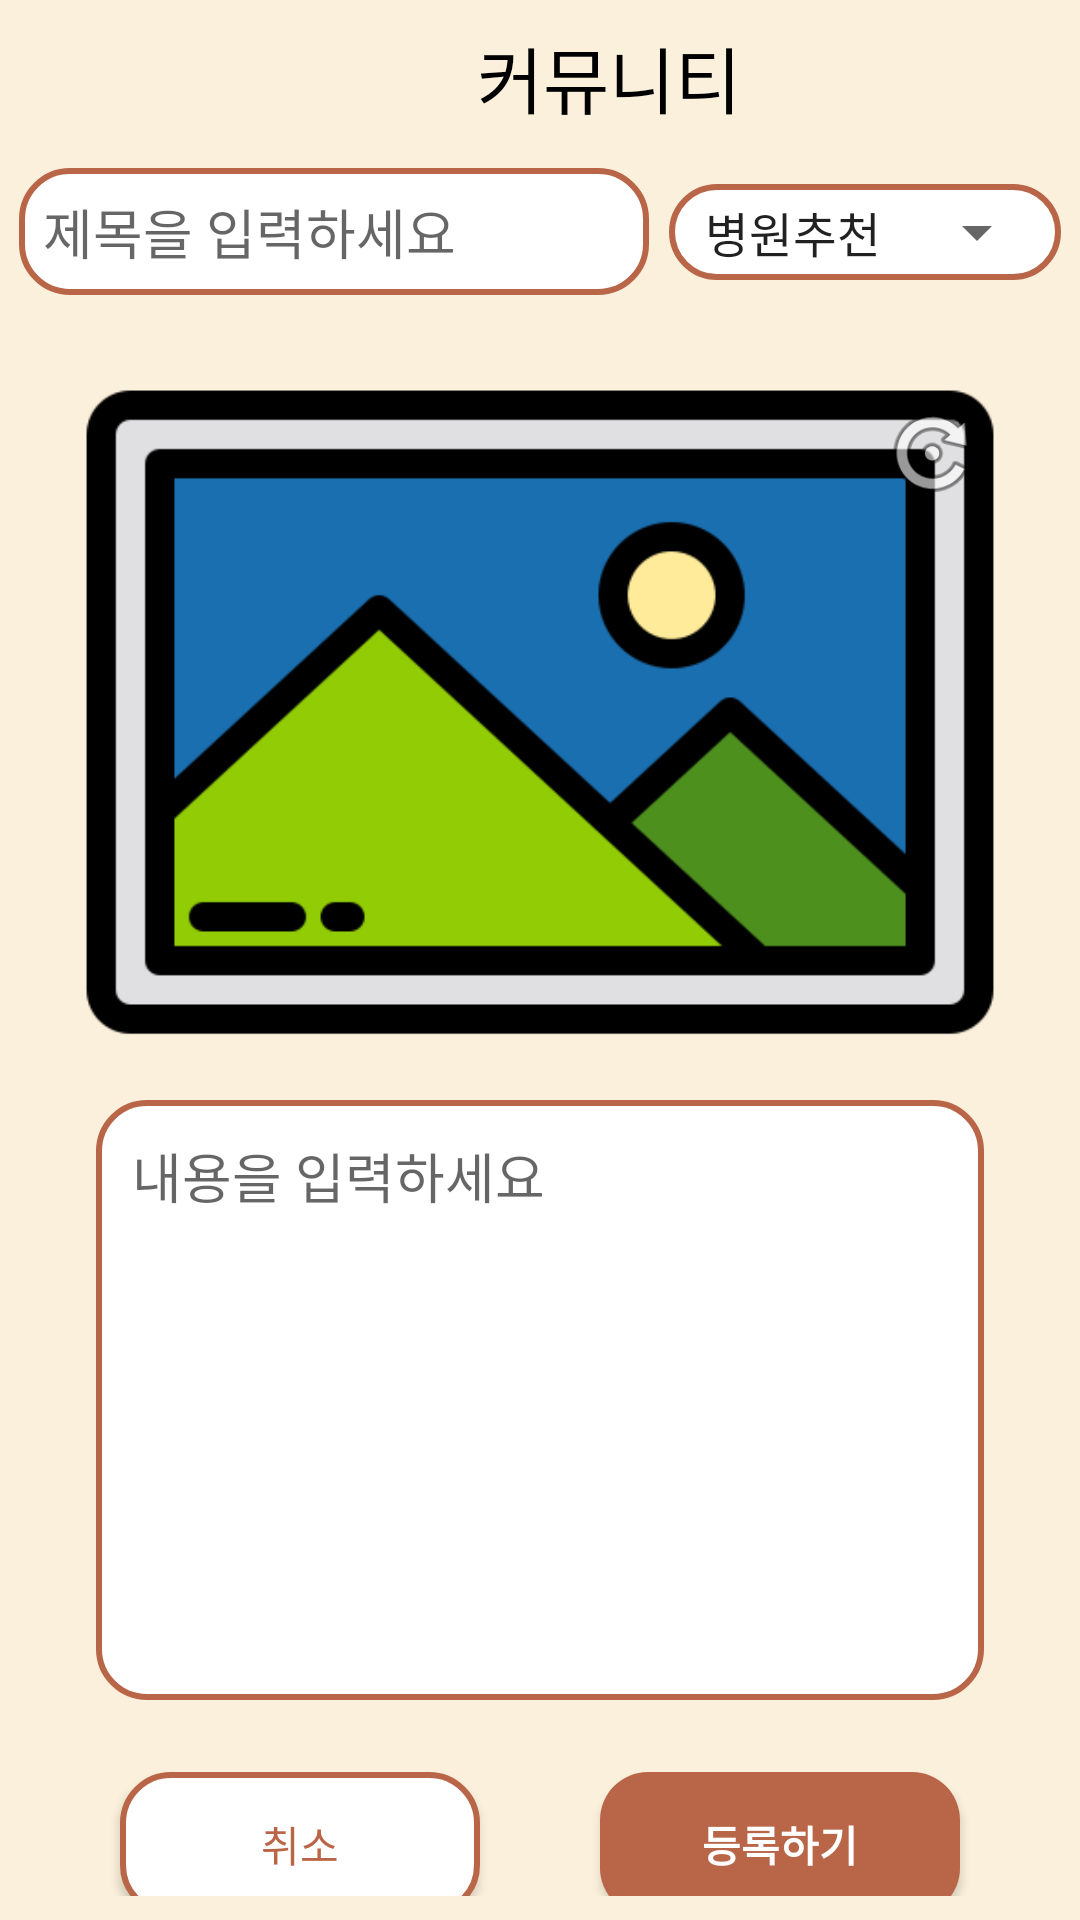

Named icons in this screenshot (1080*1920) and their bounding boxes, (x1, y1, x2, y2):
rotate: (879, 400, 984, 505)
